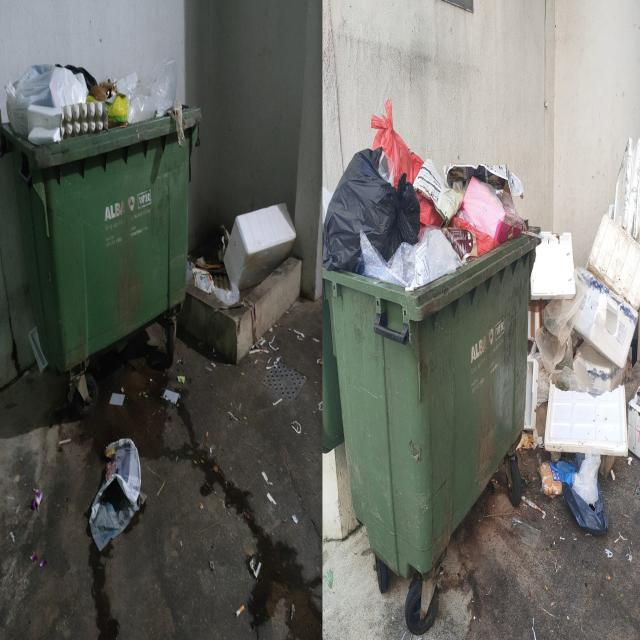bin_empty: (57, 64, 97, 94)
bin_full: (320, 144, 538, 582), (1, 65, 200, 372)
bulk_waste: (558, 206, 640, 376), (224, 204, 295, 289), (530, 230, 576, 300)
normal_waste: (322, 148, 418, 274), (418, 153, 520, 259), (90, 436, 144, 548), (539, 451, 609, 536), (185, 256, 242, 306), (414, 187, 442, 229), (554, 458, 576, 484)
